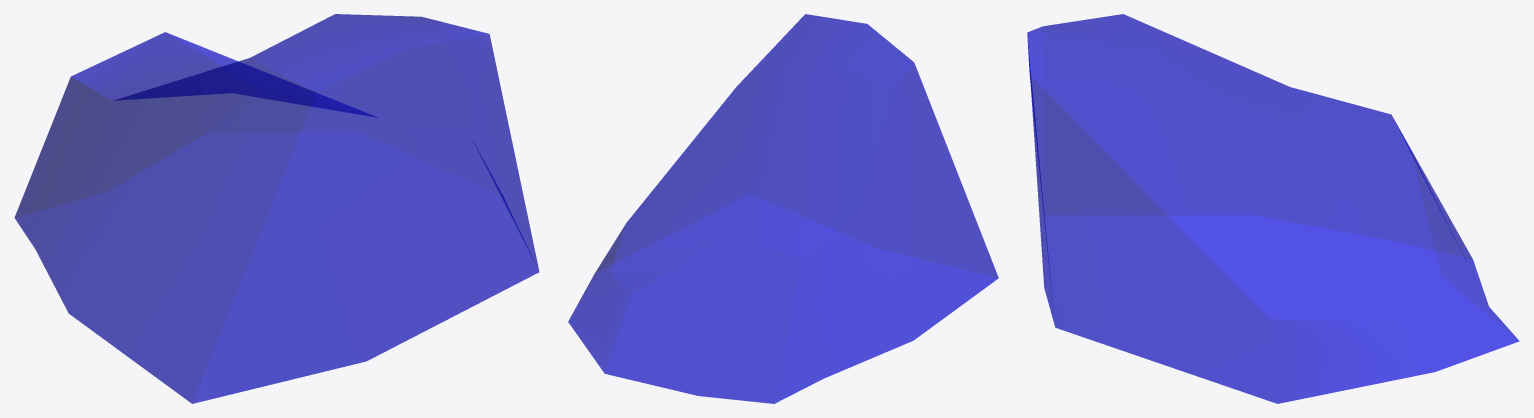
The model's file is UCX_terrain_stairs_big.fbx.
3 renders of one model, left to right at view 1: azimuth 30°, elevation 25°; view 2: azimuth 150°, elevation 25°; view 3: azimuth 270°, elevation 25°, orthographic. The views are drawn at different scales.
Parts seen in each view (by area): view 1: pCube185; view 2: pCube185; view 3: pCube185.
Part boxes in pixels (left/top/right/bottom): pCube185: left=14, top=14, right=539, bottom=403; pCube185: left=568, top=14, right=998, bottom=403; pCube185: left=1027, top=14, right=1519, bottom=403.
Size of the model in its own units: 12.12 by 8.63 by 13.53.
